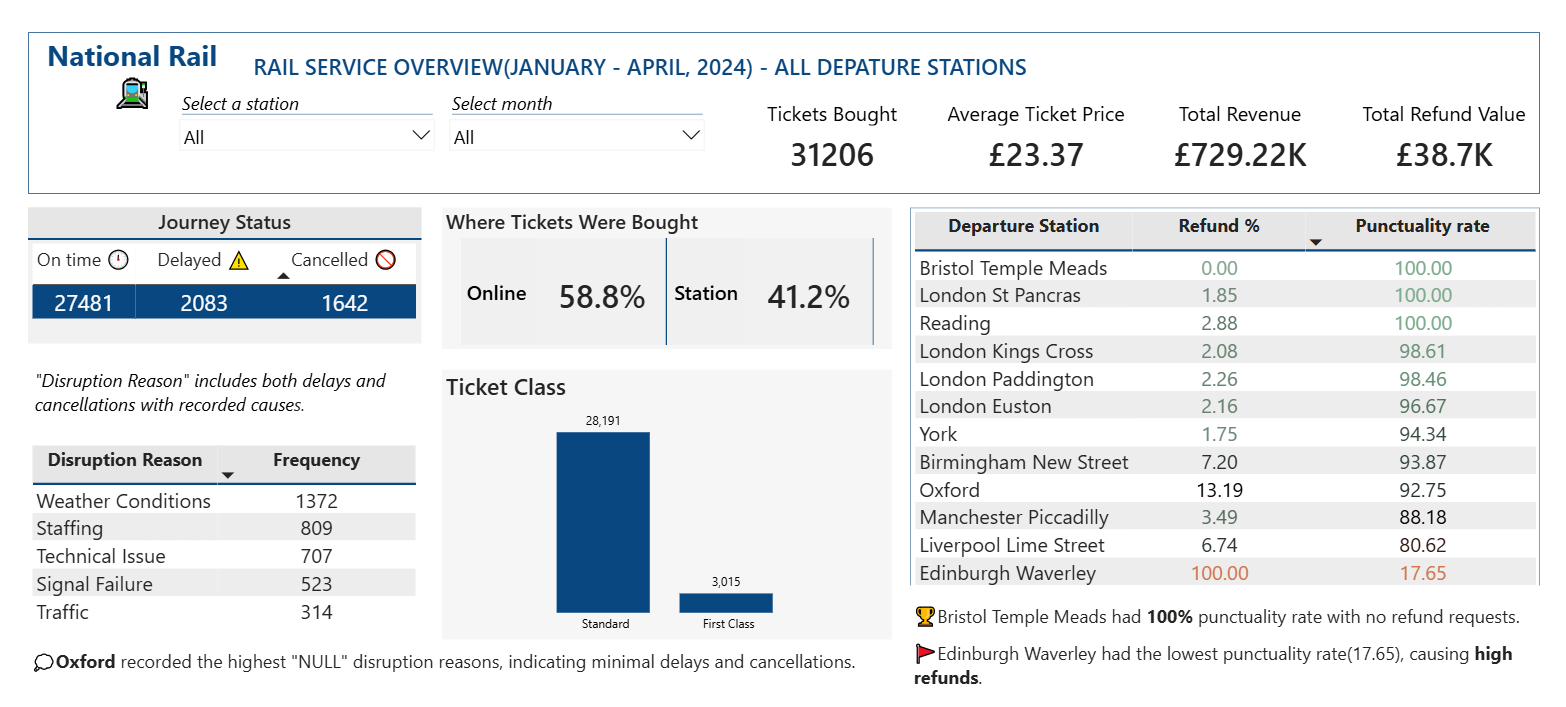

What the dashboard file says about the page in this screenshot:
{"tool":"powerbi","page":{"name":"Overview","canvas":[2100,950],"ordinal":0},"visuals":[{"type":"shape","box":[48,48,2016,216],"z":0},{"type":"tableEx","title":"Delay Information ","fields":{"Values":["Dim Delay_Reason.Delay_Reason","Rail Service Fact Table.Transaction_ID"]},"box":[48,594,528,264],"z":0,"group":"g2"},{"type":"cardVisual","fields":{"Data":["Base Measures.Avg.Ticket Price"]},"box":[1256,120,272,120],"z":1000},{"type":"tableEx","fields":{"Values":["Dim Departure_Station.Departure_Station","Base Measures.Refund Percentage (%)","Base Measures.Punctuality rate (%)"]},"box":[1224,282,840,528],"z":1000,"group":"g2"},{"type":"cardVisual","title":"Where Tickets Were Bought","fields":{"Rows":["Dim Purchase_Type.Purchase_Type"],"Data":["Min(Rail Service Fact Table.Transaction_ID)"]},"box":[600,282,600,188.5],"z":2000,"group":"g1"},{"type":"textbox","box":[48,864,1176,48],"z":2000},{"type":"cardVisual","fields":{"Data":["Base Measures.Total Revenue"]},"box":[1528,120,272,120],"z":3000},{"type":"tableEx","title":"Journey Status ","fields":{"Values":["Base Measures.On time trips","Base Measures.Delayed trips","Base Measures.Cancelled trips"]},"box":[48,282,524.5,181.4],"z":3000,"group":"g2"},{"type":"slicer","fields":{"Values":["Dim Departure_Station.Departure Station"]},"box":[240,120,360,120],"z":4000},{"type":"group","id":"g1","title":"Group 4","box":[600,282,600,576],"z":4000,"group":"g2"},{"type":"columnChart","title":"Ticket Class ","fields":{"Y":["Base Measures.Total Tickets"],"Category":["Dim Ticket_Class.Ticket_Class"]},"box":[600,498,600,360],"z":4000,"group":"g1"},{"type":"cardVisual","fields":{"Data":["Base Measures.Total Refund Amount"]},"box":[1800,120,272,120],"z":5000},{"type":"textbox","box":[51.5,489.4,524.5,103.7],"z":5000,"group":"g2"},{"type":"group","id":"g2","title":"Group 7","box":[48,282,2016,648],"z":6000},{"type":"cardVisual","fields":{"Data":["Base Measures.Dynamic Title"]},"box":[312,48,1104,72],"z":7000},{"type":"textbox","box":[1224,786,840,144],"z":8000,"group":"g2"},{"type":"cardVisual","fields":{"Data":["Base Measures.Total Tickets"]},"box":[984,120,272,120],"z":9000},{"type":"textbox","box":[48,48,288,120],"z":10000},{"type":"slicer","title":"Select month","fields":{"Values":["Date Table.Month_Name"]},"box":[600,120,360,120],"z":15000}]}

Visuals, with their boxes in screenshot pixels (x1, y1, x2, y2), scaled from the page's 2100x950 canvas onto the 1566x707 screenshot:
shape: pyautogui.locateOnScreen(36, 36, 1539, 196)
"Delay Information " tableEx: pyautogui.locateOnScreen(36, 442, 430, 639)
cardVisual - Base Measures.Avg.Ticket Price: pyautogui.locateOnScreen(937, 89, 1139, 179)
tableEx - Dim Departure_Station.Departure_Station x Base Measures.Refund Percentage (%): pyautogui.locateOnScreen(913, 210, 1539, 603)
"Where Tickets Were Bought" cardVisual: pyautogui.locateOnScreen(447, 210, 895, 350)
textbox: pyautogui.locateOnScreen(36, 643, 913, 679)
cardVisual - Base Measures.Total Revenue: pyautogui.locateOnScreen(1139, 89, 1342, 179)
"Journey Status " tableEx: pyautogui.locateOnScreen(36, 210, 427, 345)
slicer - Dim Departure_Station.Departure Station: pyautogui.locateOnScreen(179, 89, 447, 179)
"Group 4" group: pyautogui.locateOnScreen(447, 210, 895, 639)
"Ticket Class " columnChart: pyautogui.locateOnScreen(447, 371, 895, 639)
cardVisual - Base Measures.Total Refund Amount: pyautogui.locateOnScreen(1342, 89, 1545, 179)
textbox: pyautogui.locateOnScreen(38, 364, 430, 441)
"Group 7" group: pyautogui.locateOnScreen(36, 210, 1539, 692)
cardVisual - Base Measures.Dynamic Title: pyautogui.locateOnScreen(233, 36, 1056, 89)
textbox: pyautogui.locateOnScreen(913, 585, 1539, 692)
cardVisual - Base Measures.Total Tickets: pyautogui.locateOnScreen(734, 89, 937, 179)
textbox: pyautogui.locateOnScreen(36, 36, 251, 125)
"Select month" slicer: pyautogui.locateOnScreen(447, 89, 716, 179)
